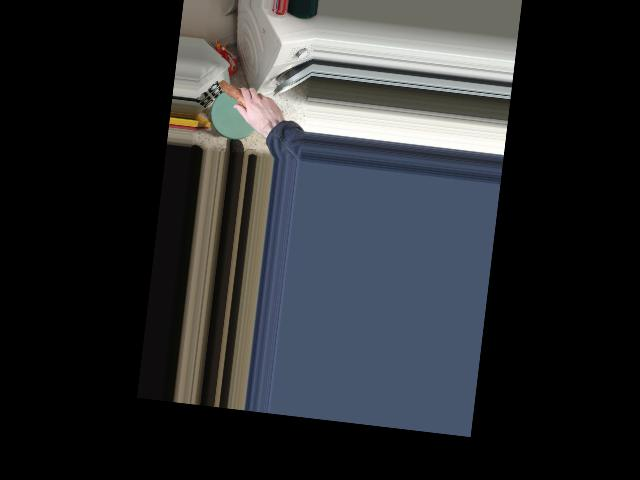sweet_potato: (217, 79, 272, 124)
